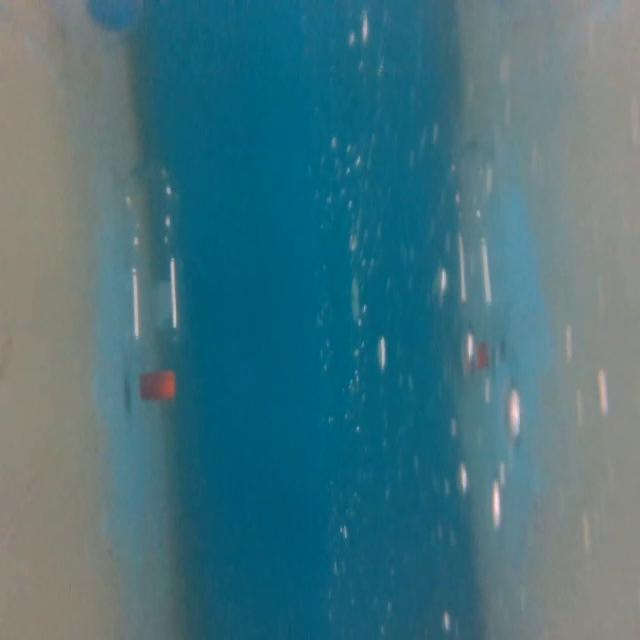plastic bottle: (110, 151, 200, 406)
